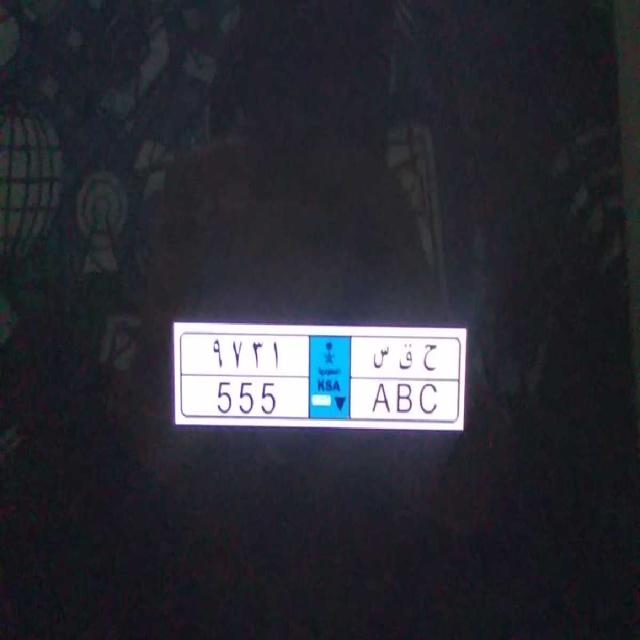license_plate: (196, 373, 450, 427)
